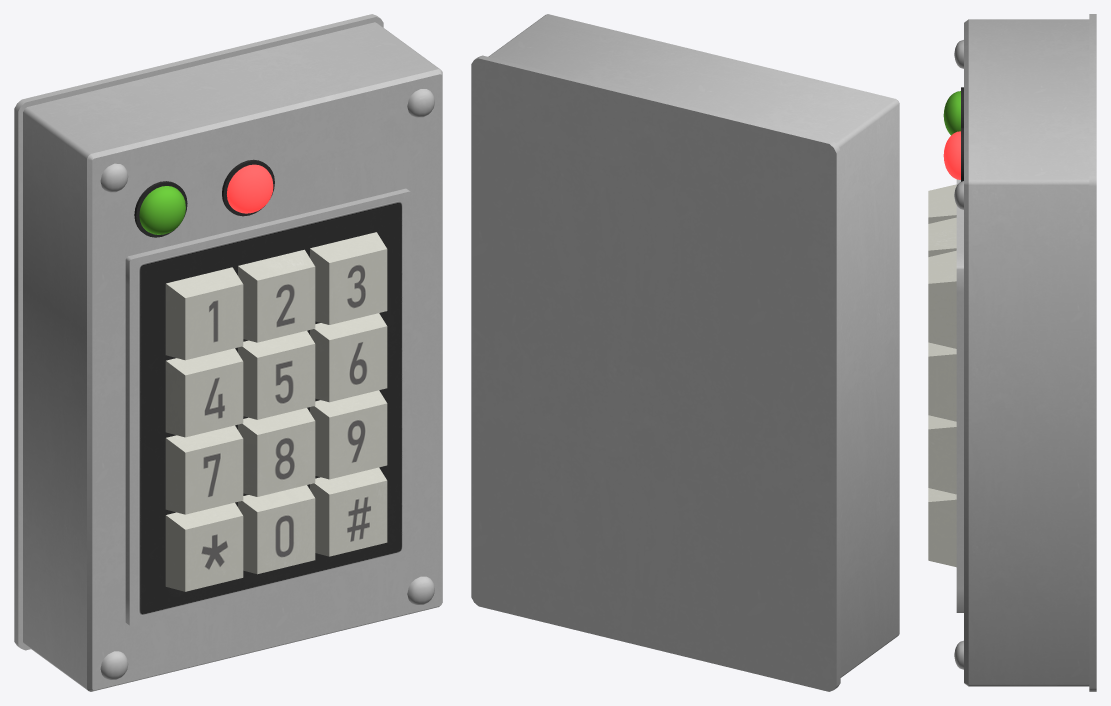
The model's file is lock.glb.
3 views of the same model, side by side, from view 1: azimuth 30°, elevation 25°; view 2: azimuth 150°, elevation 25°; view 3: azimuth 270°, elevation 25° (orthographic). The views are drawn at different scales.
Visible parts, largest first — view 1: KeypadDoorLock, *, #; view 2: KeypadDoorLock; view 3: KeypadDoorLock, #.
Part boxes in pixels (box(x1,y1,x2,y2)): KeypadDoorLock: box(14, 14, 442, 691); *: box(165, 502, 243, 591); #: box(310, 467, 387, 556); KeypadDoorLock: box(471, 14, 899, 691); KeypadDoorLock: box(928, 14, 1096, 691); #: box(928, 488, 956, 567).
Size of the model in its own units: 0.0924 by 0.1324 by 0.0392.
Materials: 1 (1 with a texture image).
